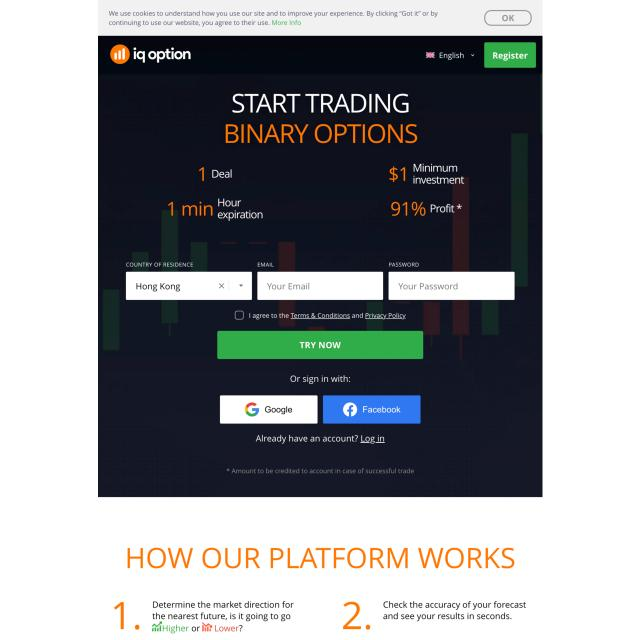CheckBox: (216, 331, 424, 360), (220, 394, 318, 424), (323, 395, 420, 424), (484, 41, 538, 68), (290, 310, 350, 320), (364, 311, 408, 320), (360, 434, 386, 445), (234, 310, 245, 321)
CheckedTextView: (126, 271, 253, 300), (257, 272, 383, 300)
ProgressBar: (97, 0, 543, 36)
QR code: (101, 157, 544, 235)
alert: (421, 46, 480, 64)
bag: (98, 37, 542, 75)
breadcrumbs: (122, 540, 520, 575)
carousel: (244, 401, 260, 417), (342, 402, 358, 417)
data feed: (123, 258, 195, 268), (398, 281, 459, 291), (491, 49, 531, 63), (266, 281, 313, 292), (297, 339, 343, 350), (361, 404, 400, 416), (264, 404, 293, 415), (388, 260, 421, 268), (256, 259, 277, 269)
date picker: (105, 41, 194, 67)
image: (216, 86, 420, 148)
